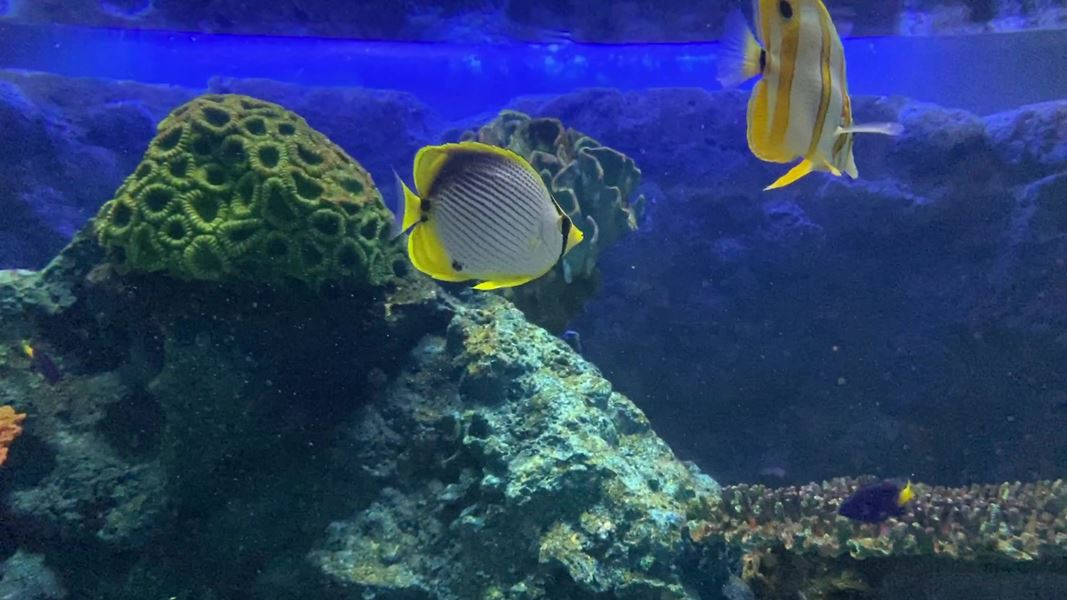Black-backed butterflyfish: (376, 133, 595, 300)
